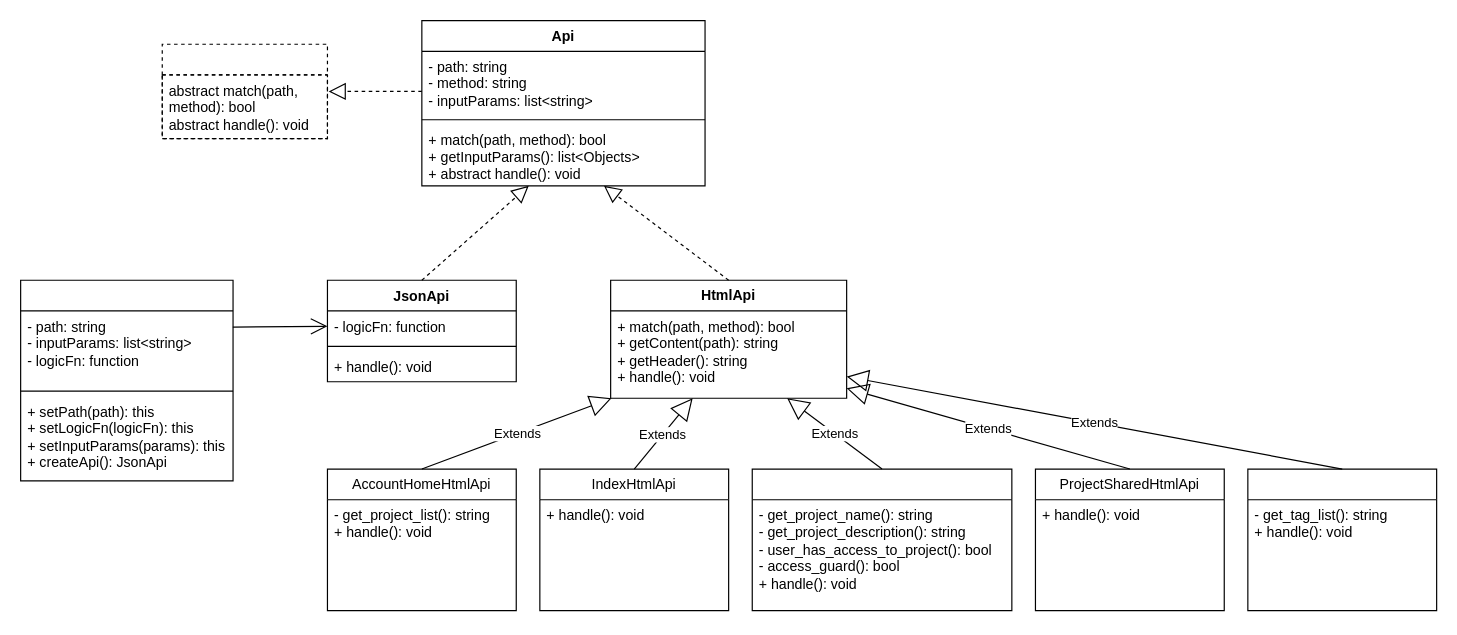
Some shapes in this 1457 by 635 pixel diagram are drawn without their labels. Here are the shapes that lost their labels. From the top down, the box of each, then its label:
(161, 43, 327, 139): ApiInterface
(19, 279, 233, 481): JsonApiBuilder
(751, 468, 1012, 611): ProjectHomeHtmlApi
(1247, 468, 1437, 611): TagPageHtmlApi
